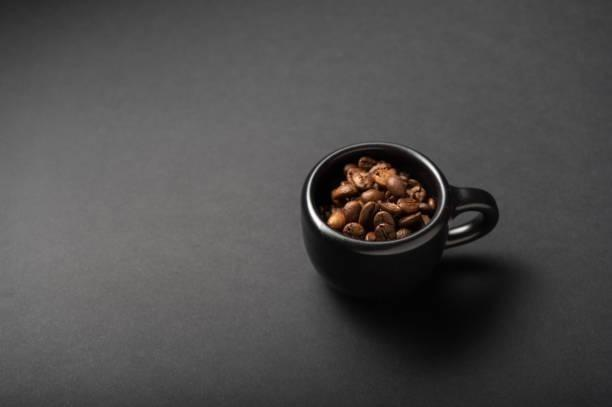cup-handle: (299, 140, 500, 303)
